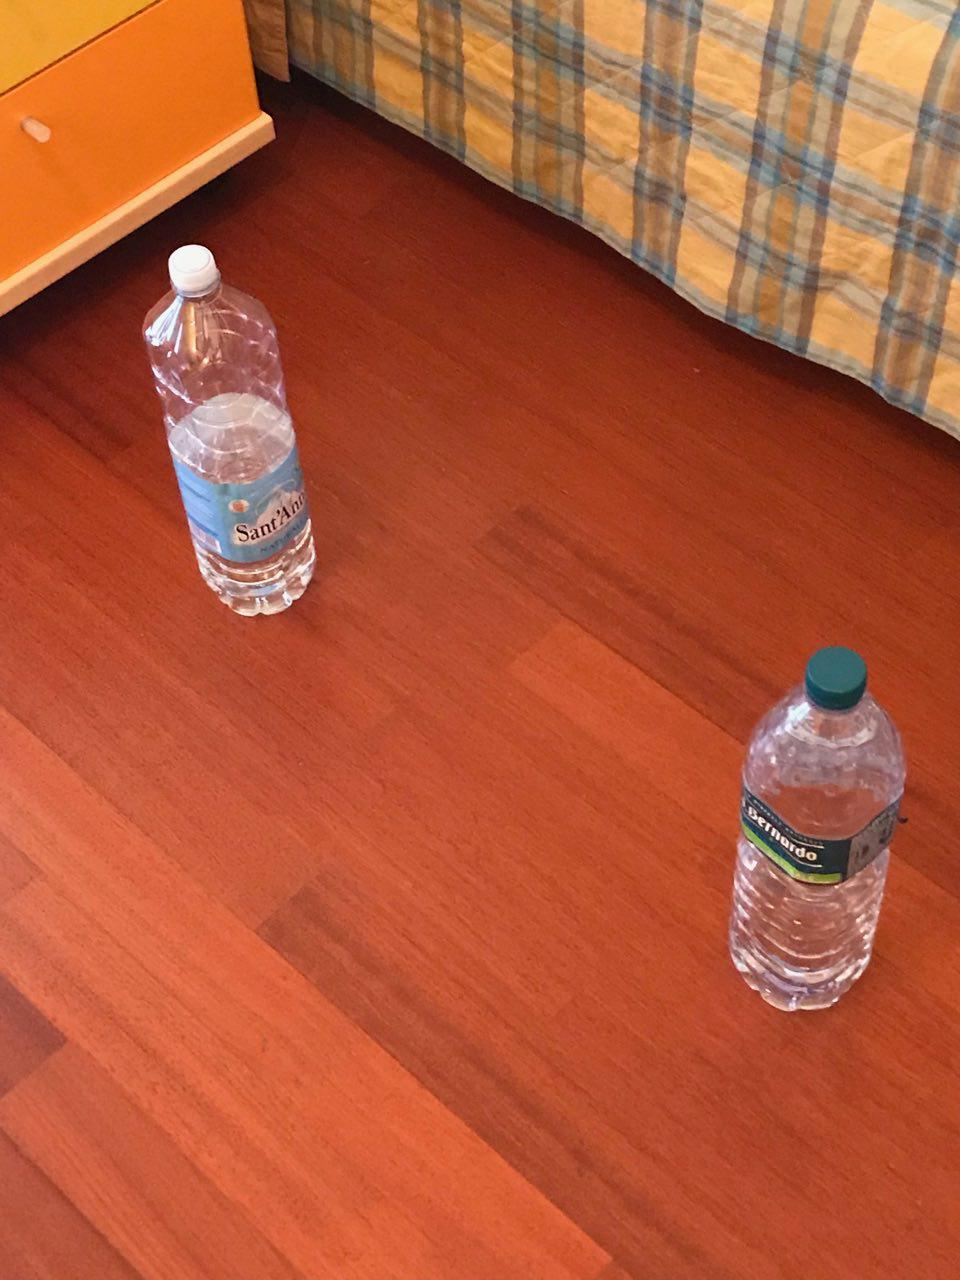san_bernardo: (725, 642, 906, 1015)
